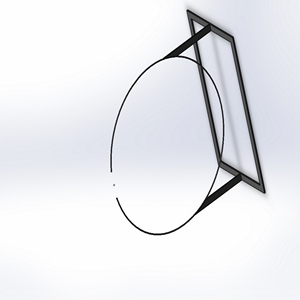circle: (108, 5, 268, 237)
